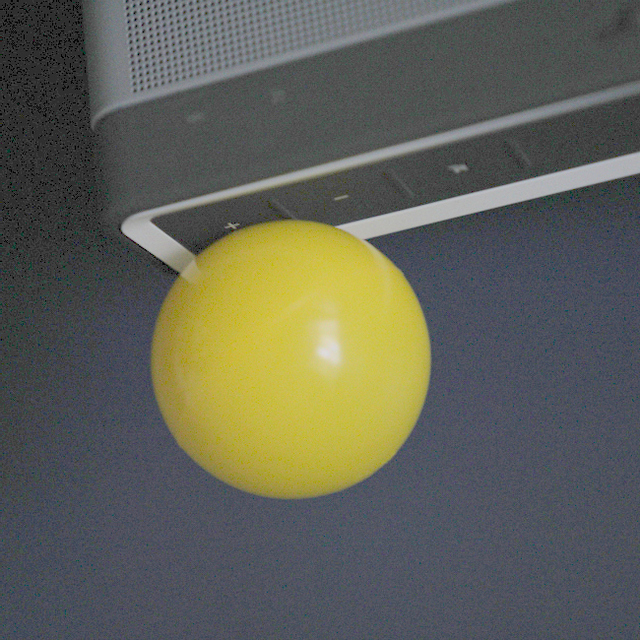Ball: (149, 224, 426, 502)
